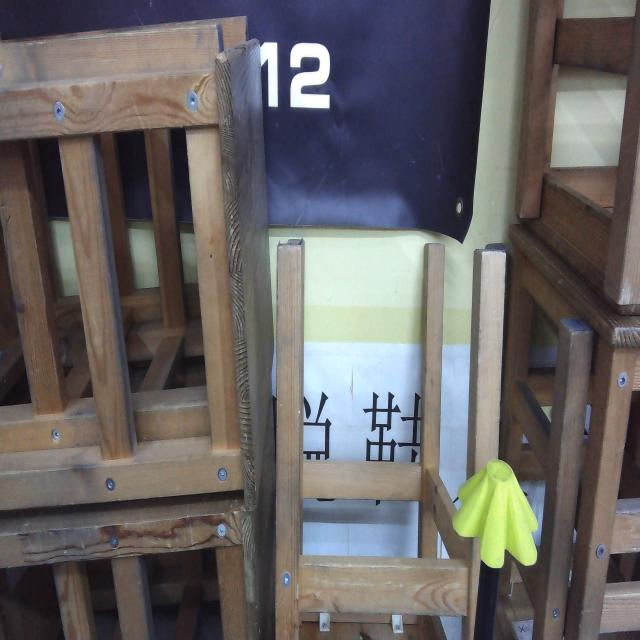Yellow-Stake-Head: (452, 459, 538, 569)
